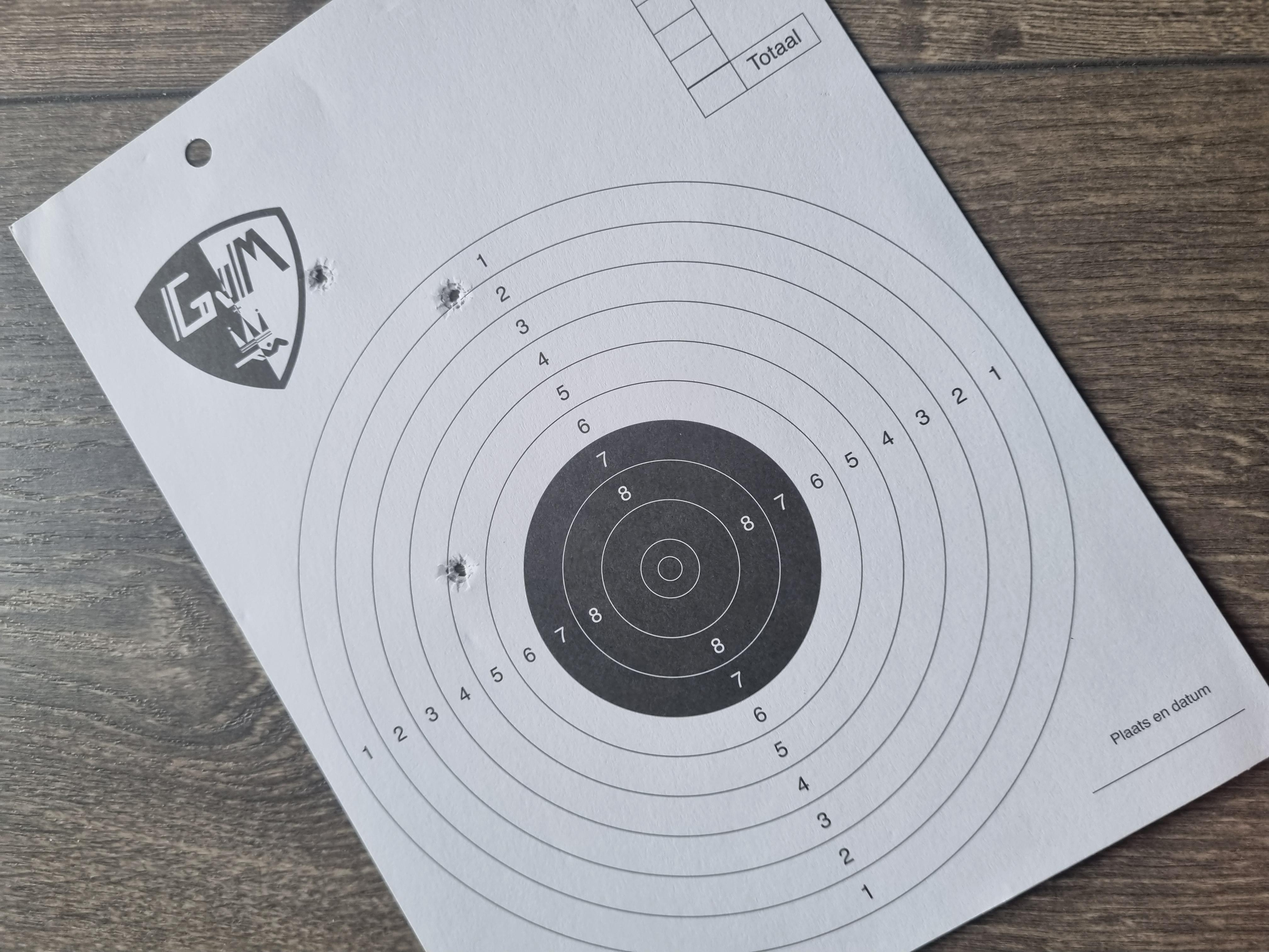hole: (481, 328, 528, 355), (852, 327, 897, 352), (880, 229, 919, 251)
